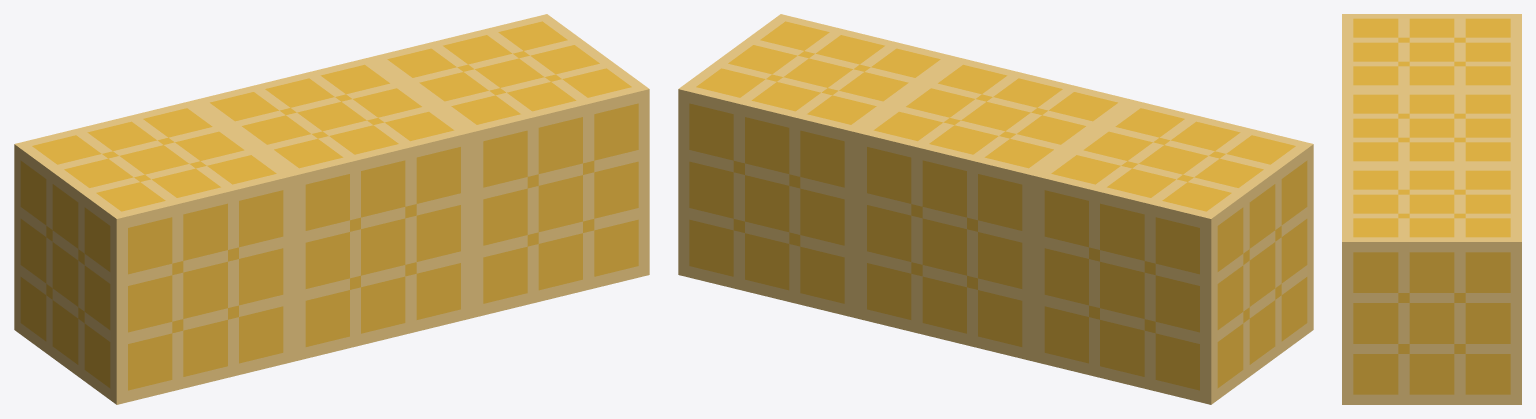
The model's file is CyberTiles - Yellow 3x1.fbx.
3 views of the same model, side by side, from view 1: azimuth 30°, elevation 25°; view 2: azimuth 150°, elevation 25°; view 3: azimuth 270°, elevation 25° (orthographic). The views are drawn at different scales.
Visible parts, largest first — view 1: cyber_tiles - yellow 3x1; view 2: cyber_tiles - yellow 3x1; view 3: cyber_tiles - yellow 3x1.
Boxes of the visible parts, left/top/right/bottom form: cyber_tiles - yellow 3x1: left=14, top=14, right=649, bottom=404; cyber_tiles - yellow 3x1: left=678, top=14, right=1313, bottom=404; cyber_tiles - yellow 3x1: left=1342, top=14, right=1521, bottom=404.
Bounding box in the file's own units: 4.8 × 1.6 × 1.6.
1 material, 1 textured.
